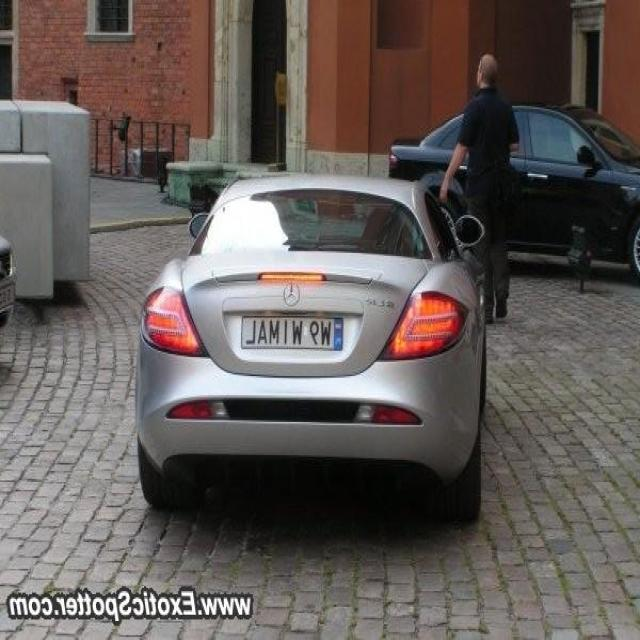pl_license_plate: (242, 316, 344, 348)
